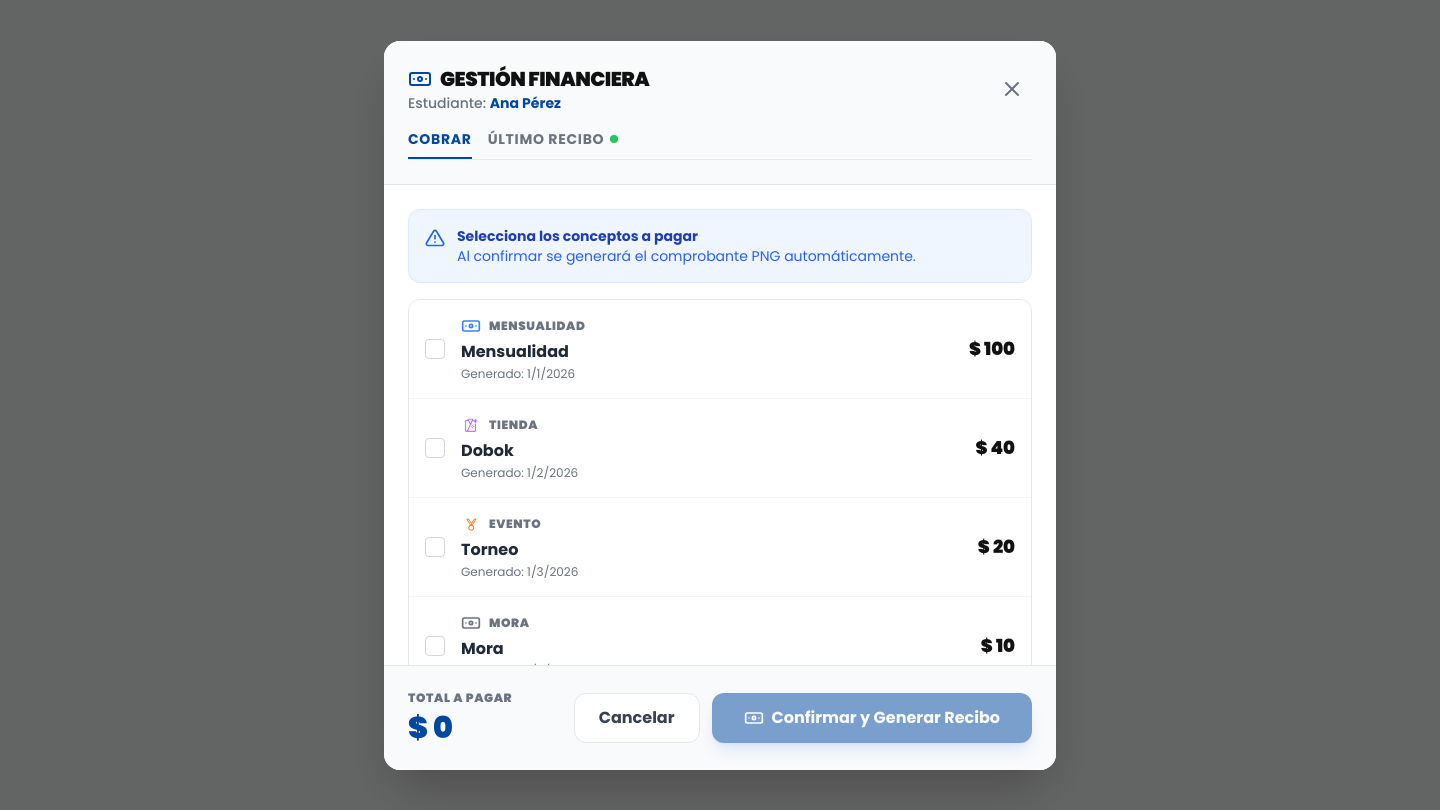
ModalRegistrarPago › anulación del último pago › notifica y cierra la confirmación cuando la anulación es exitosa
Expected: the text "Dobok" is shown, [461,438,514,462]
What coordinates should you click on to do the following:
click the button "Último Recibo"
I would click on:
 (553, 144)
Its box is [488,128,618,158].
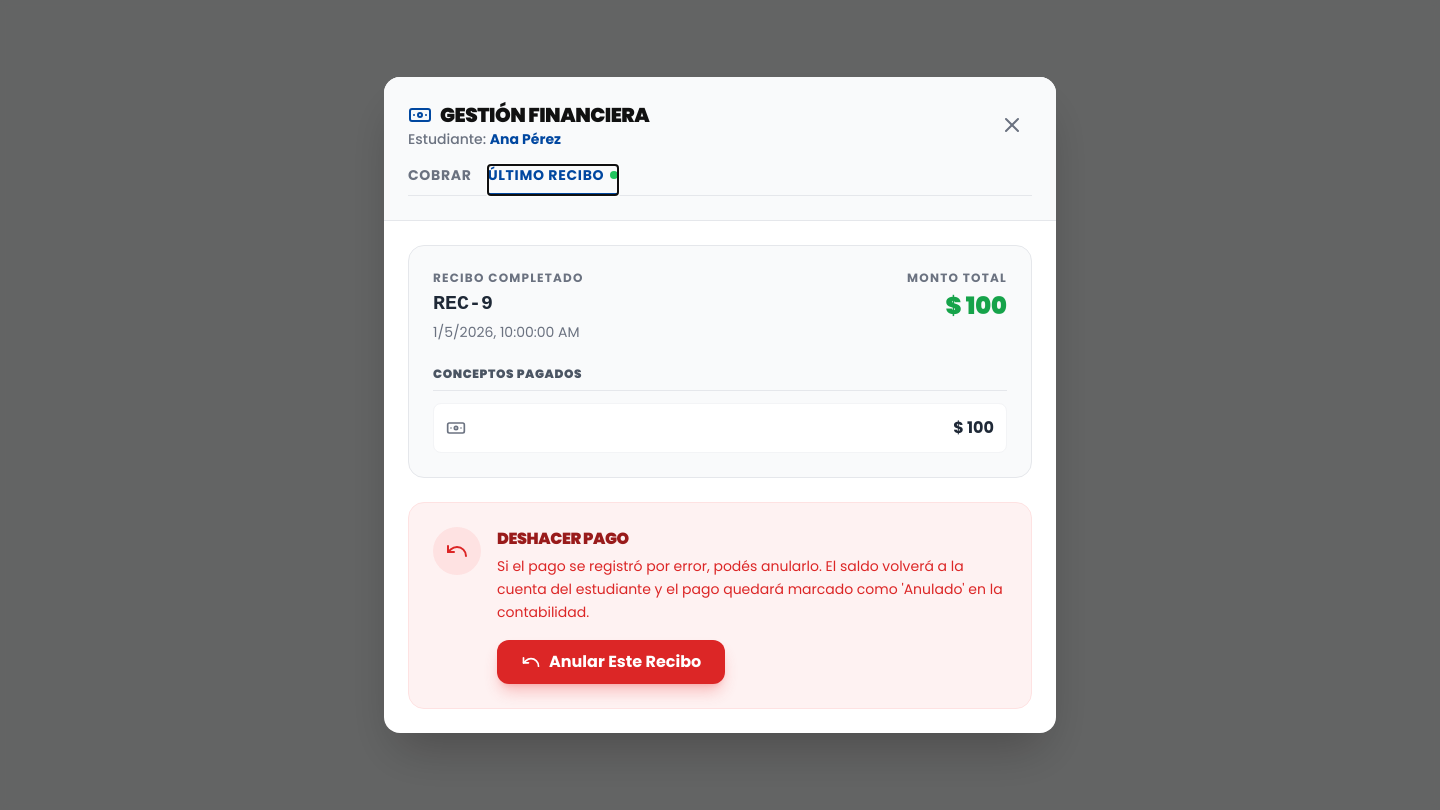
What coordinates should you click on to do the following:
click the button "Anular Este Recibo"
I would click on:
 (611, 662)
Its box is [497,640,725,684].
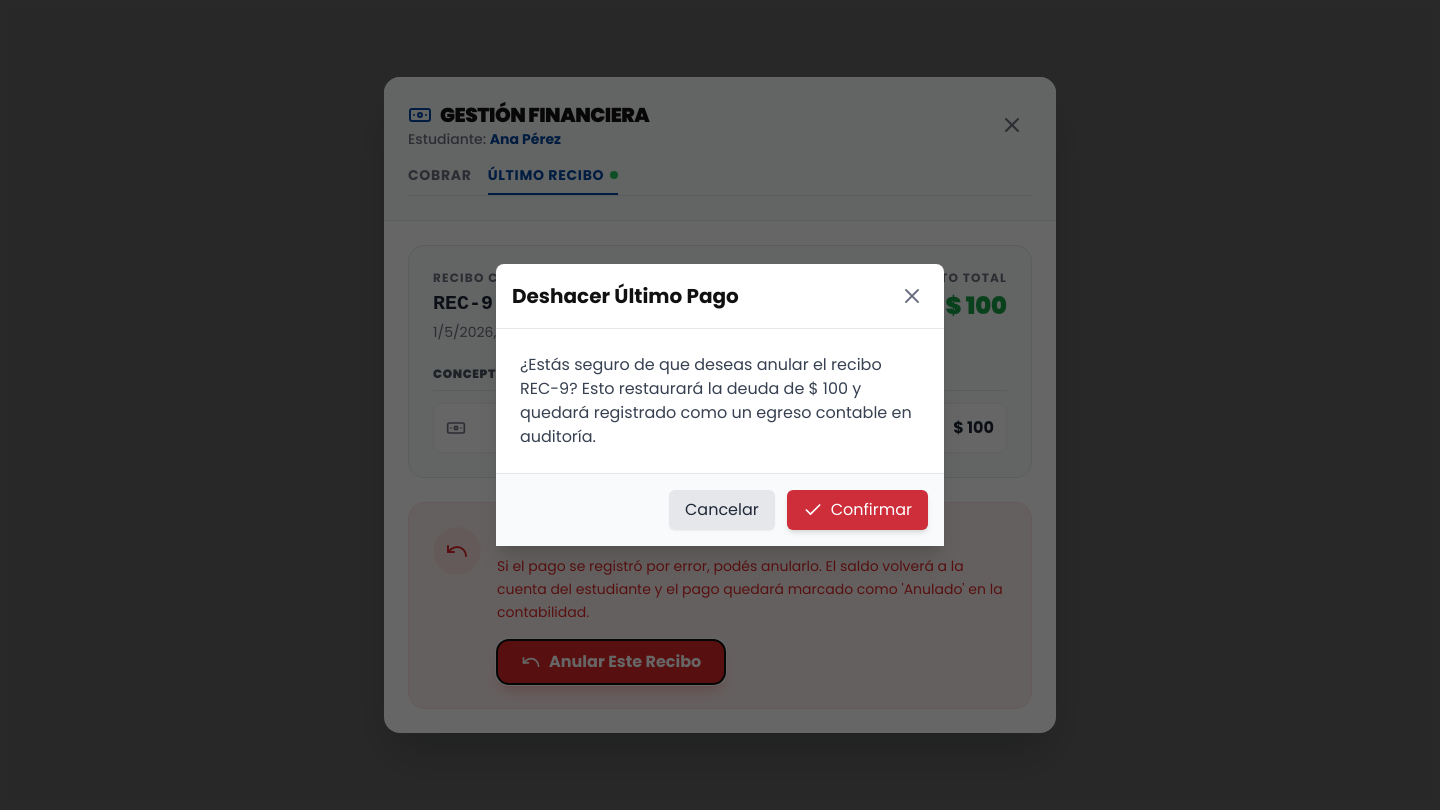
What coordinates should you click on to do the following:
click the button "Confirmar"
I would click on:
 (857, 510)
Its box is [787,490,928,530].
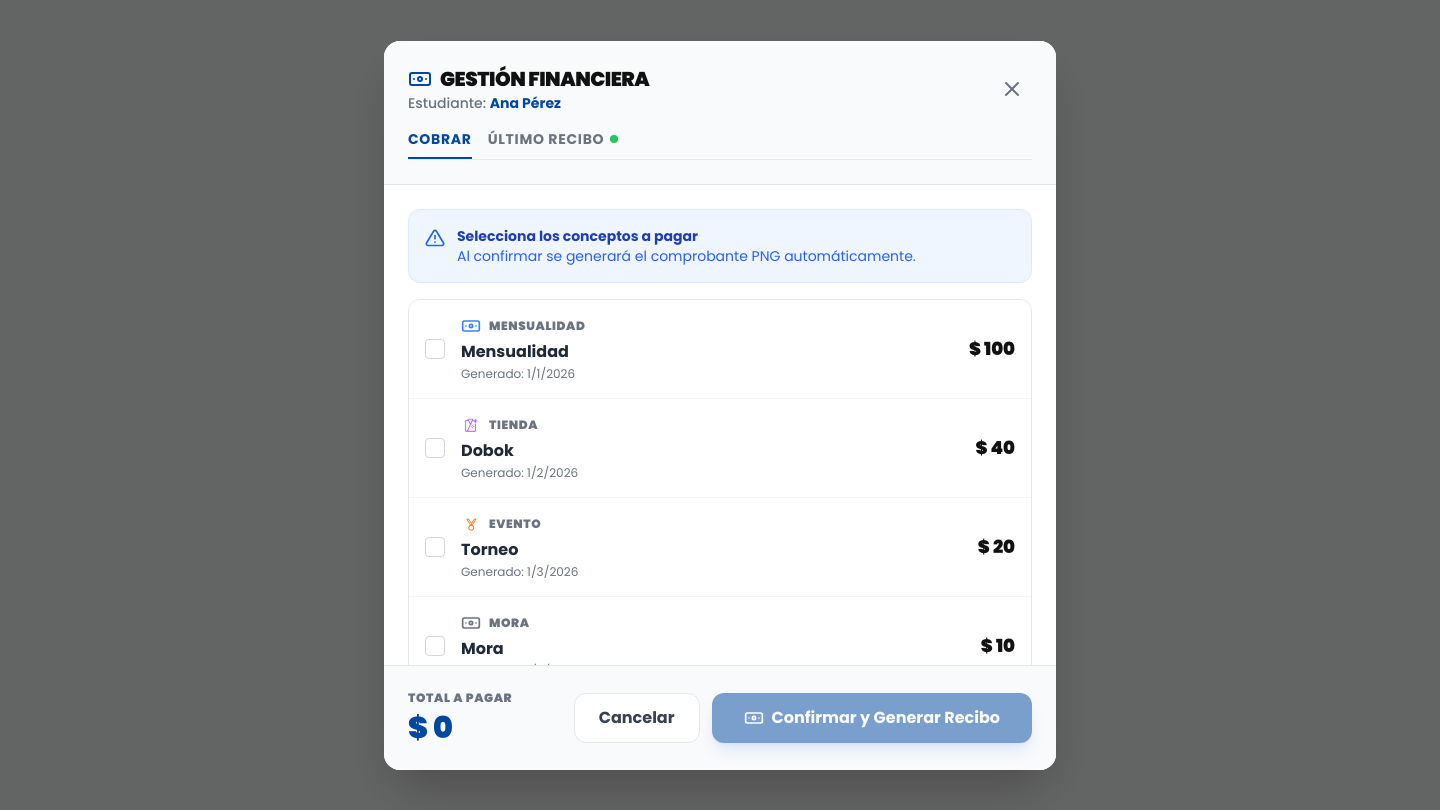
Expected: the heading "Deshacer Último Pago" is gone
